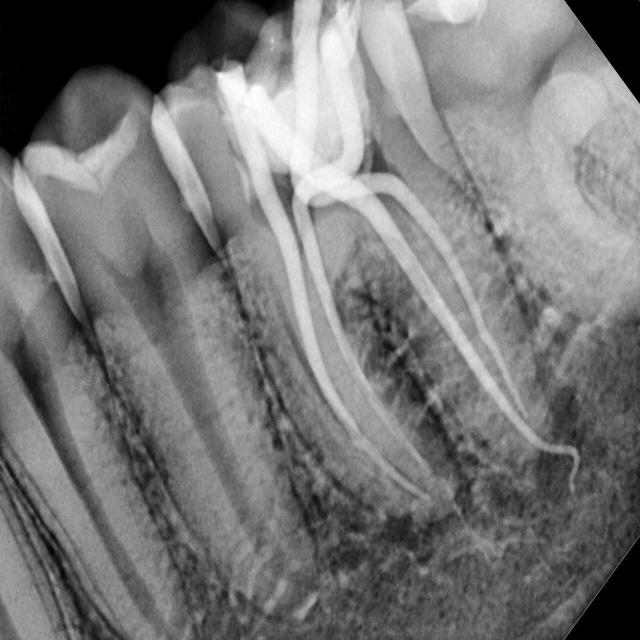Normal: (4, 37, 363, 637), (0, 153, 230, 640)
RCT: (145, 0, 598, 554)
